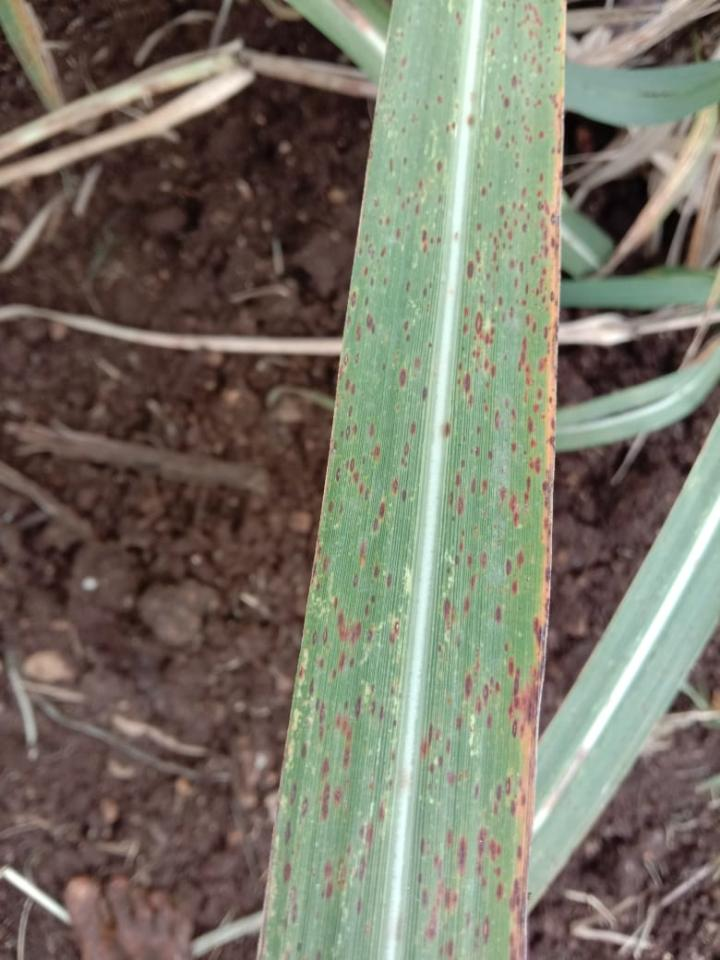Rust: (254, 0, 462, 959), (411, 0, 568, 959), (453, 10, 463, 29)
